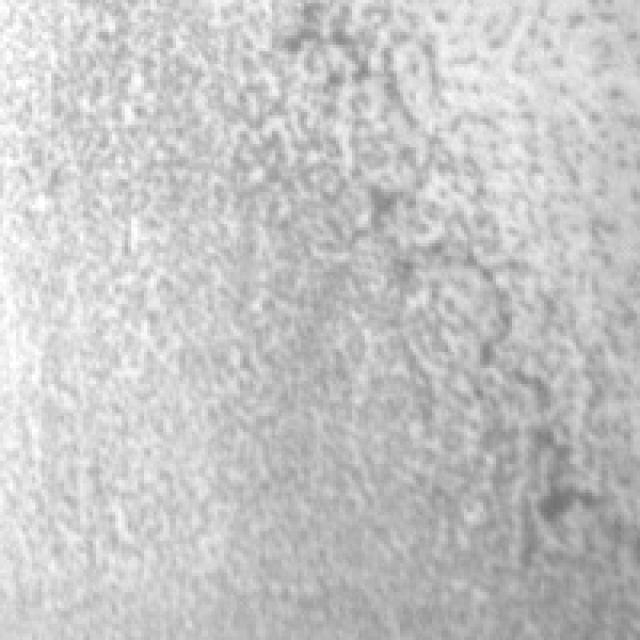pitted_surface: (259, 4, 627, 582), (16, 3, 477, 234)
